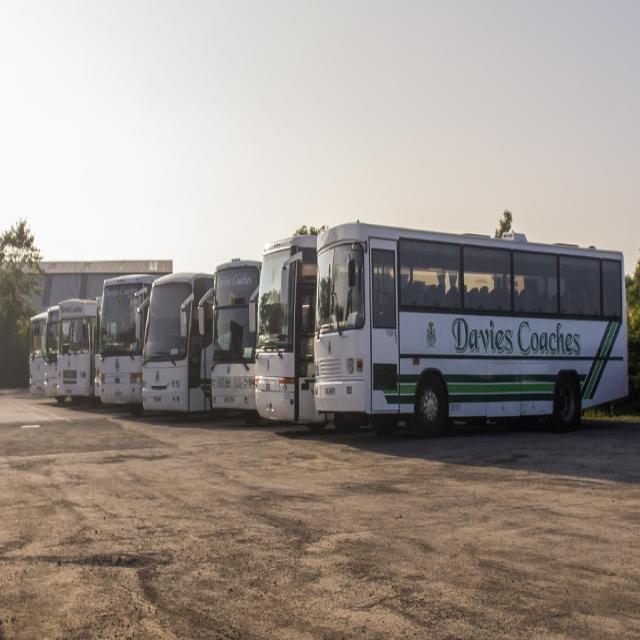Buses: (313, 227, 628, 437), (256, 229, 313, 428), (142, 268, 206, 414), (208, 256, 258, 418), (100, 273, 143, 408), (55, 296, 93, 399)
